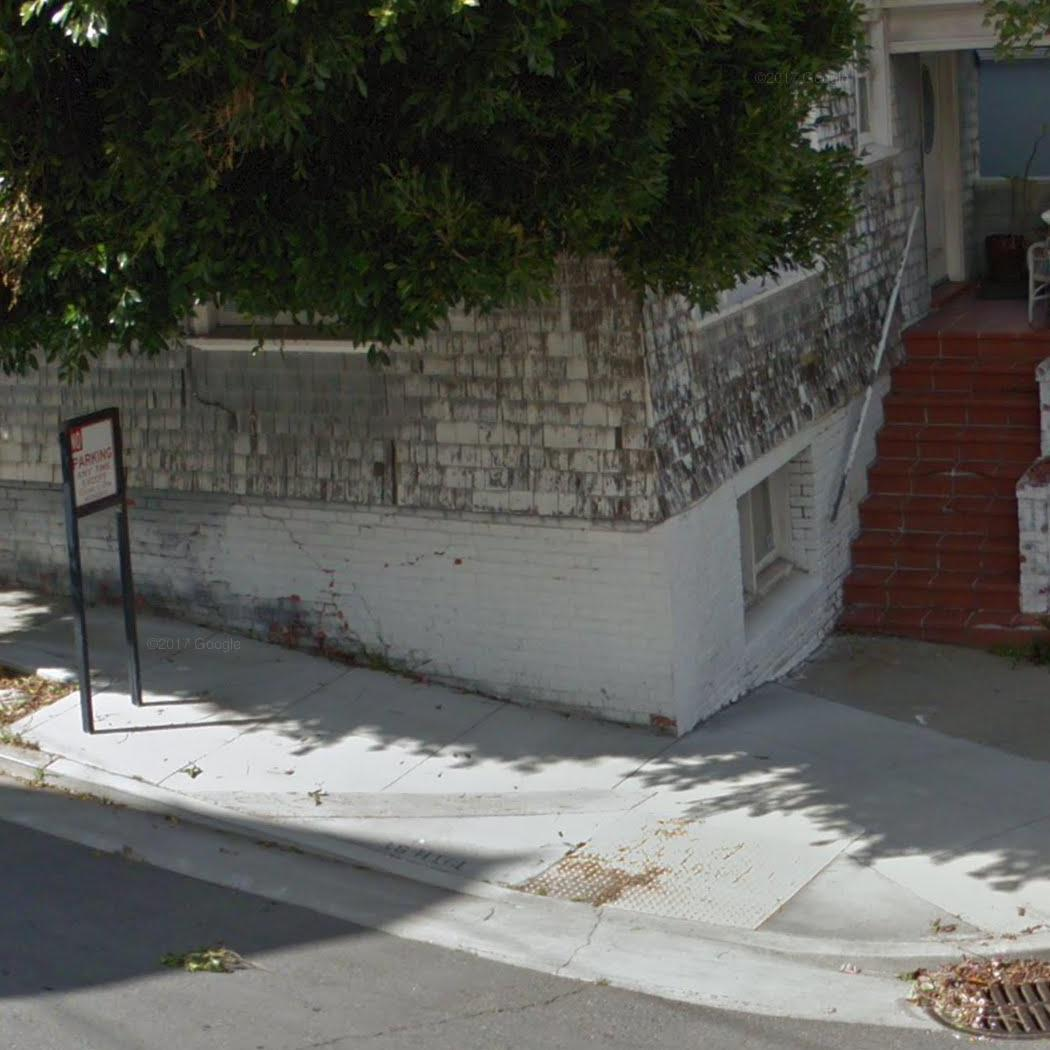No Parking Anytime: (67, 417, 121, 510)
